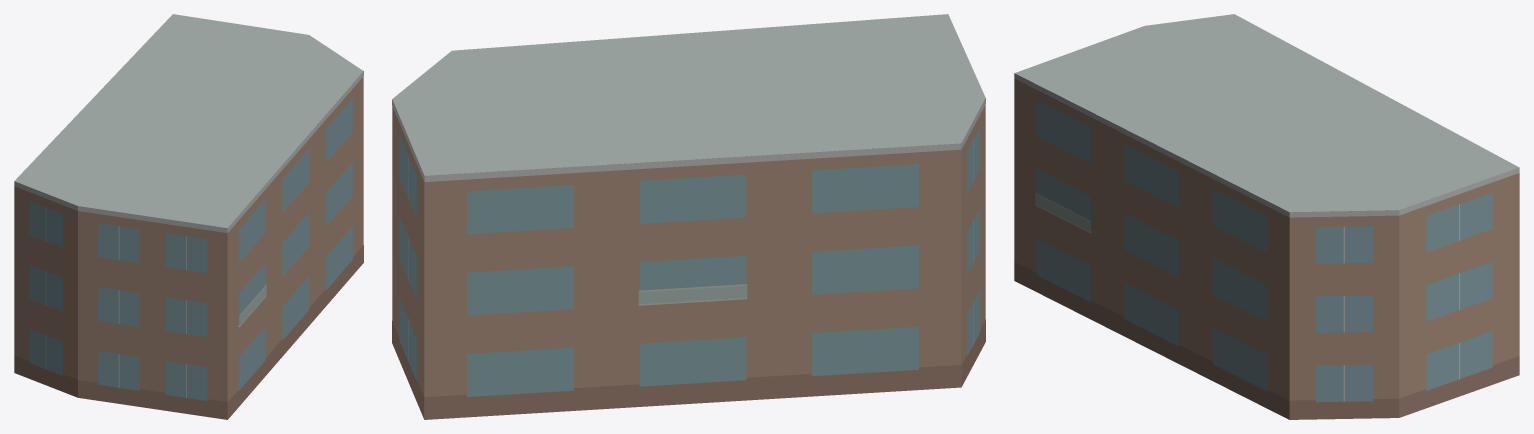
Rendered from survey-upis-32470979.glb.
The picture shows the model from 3 angles, left to right: view 1: azimuth 30°, elevation 25°; view 2: azimuth 150°, elevation 25°; view 3: azimuth 270°, elevation 25°; orthographic projection. The views are drawn at different scales.
Parts seen in each view (by area): view 1: survey-upis-32470979.tmp; view 2: survey-upis-32470979.tmp; view 3: survey-upis-32470979.tmp.
Part boxes in pixels (box(x1,y1,x2,y2)): survey-upis-32470979.tmp: box(14, 14, 363, 419); survey-upis-32470979.tmp: box(392, 14, 985, 419); survey-upis-32470979.tmp: box(1014, 14, 1519, 419).
Bounding box in the file's own units: 19.35 × 9.45 × 20.84.
